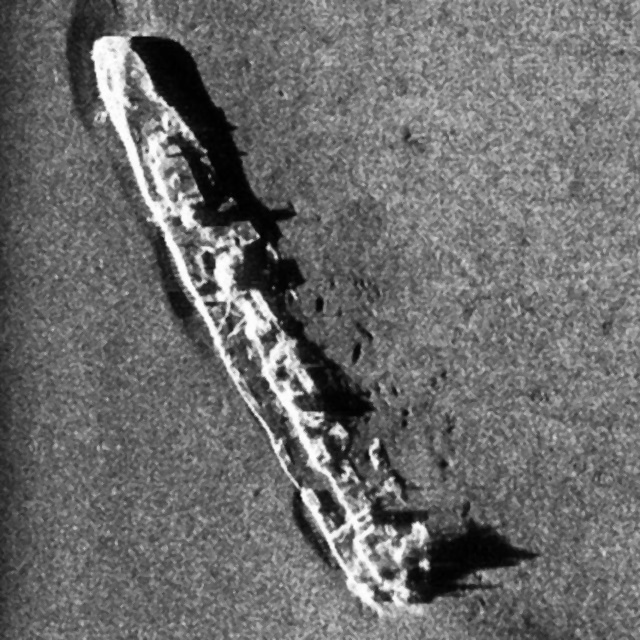Ship: (87, 23, 449, 627)
